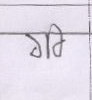i_matra: (50, 24, 66, 57)
